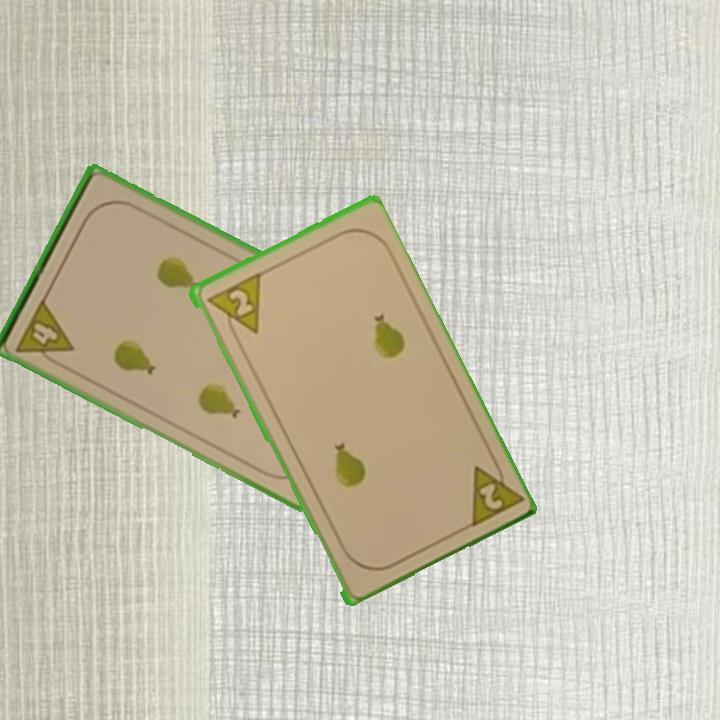2p: (463, 452, 523, 531), (203, 269, 264, 344)
4p: (12, 295, 77, 371)
